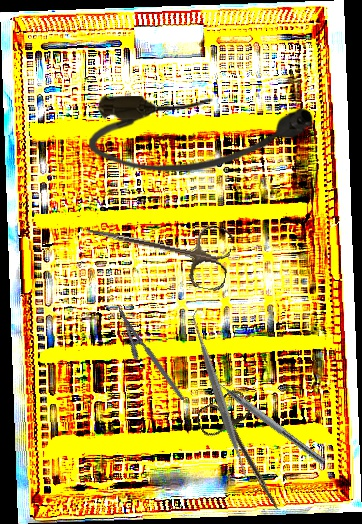Cannula: (89, 96, 314, 172)
Chopper: (205, 367, 333, 466)
Iris Scissors: (192, 386, 303, 522), (79, 202, 235, 293)
Needle Holder: (105, 307, 186, 410)
Spatula Surgical: (130, 308, 309, 485)
